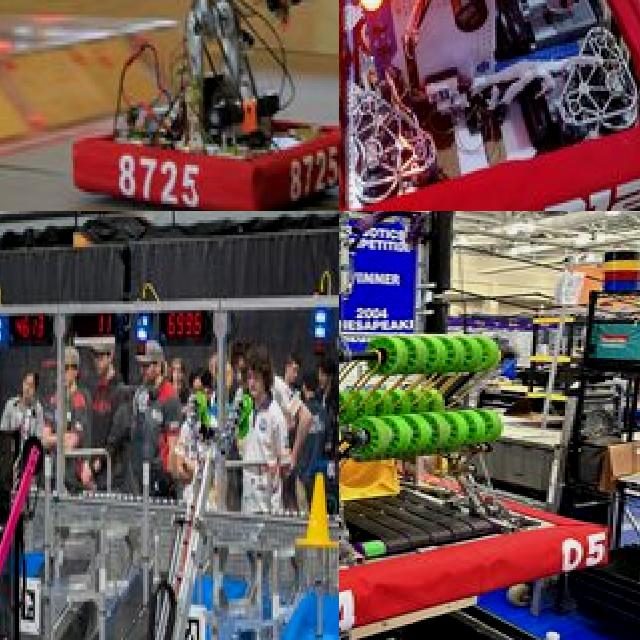FRC-Robots: (339, 211, 640, 629), (339, 0, 640, 211), (81, 0, 339, 211), (104, 359, 280, 640)
